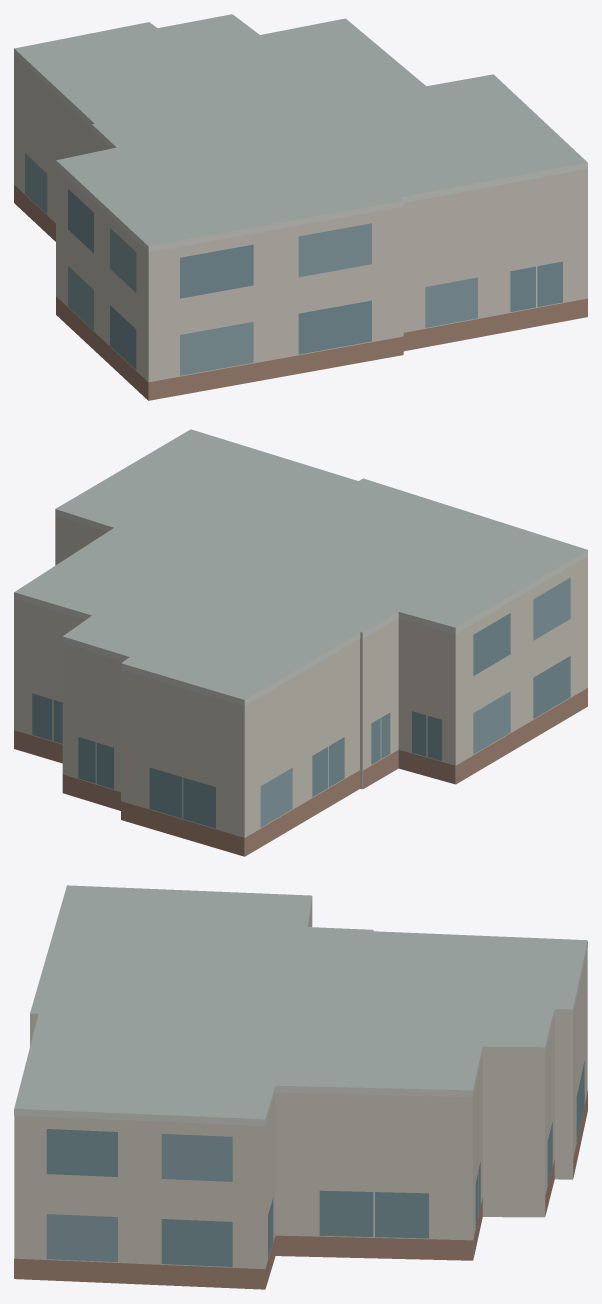
File: survey-upis-32716624.glb
The picture shows the model from 3 angles, top to bottom: view 1: azimuth 30°, elevation 25°; view 2: azimuth 150°, elevation 25°; view 3: azimuth 270°, elevation 25°; orthographic projection. The views are drawn at different scales.
Visible parts, largest first — view 1: survey-upis-32716624.tmp; view 2: survey-upis-32716624.tmp; view 3: survey-upis-32716624.tmp.
Part boxes in pixels (x1,y1,x2,y2): survey-upis-32716624.tmp: (14, 14, 587, 400); survey-upis-32716624.tmp: (14, 429, 587, 856); survey-upis-32716624.tmp: (14, 885, 587, 1289).
Size of the model in its own units: 17.99 by 6.1 by 18.64.
